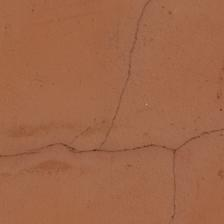Crack: (94, 2, 152, 153), (3, 126, 224, 163), (163, 152, 185, 222)
